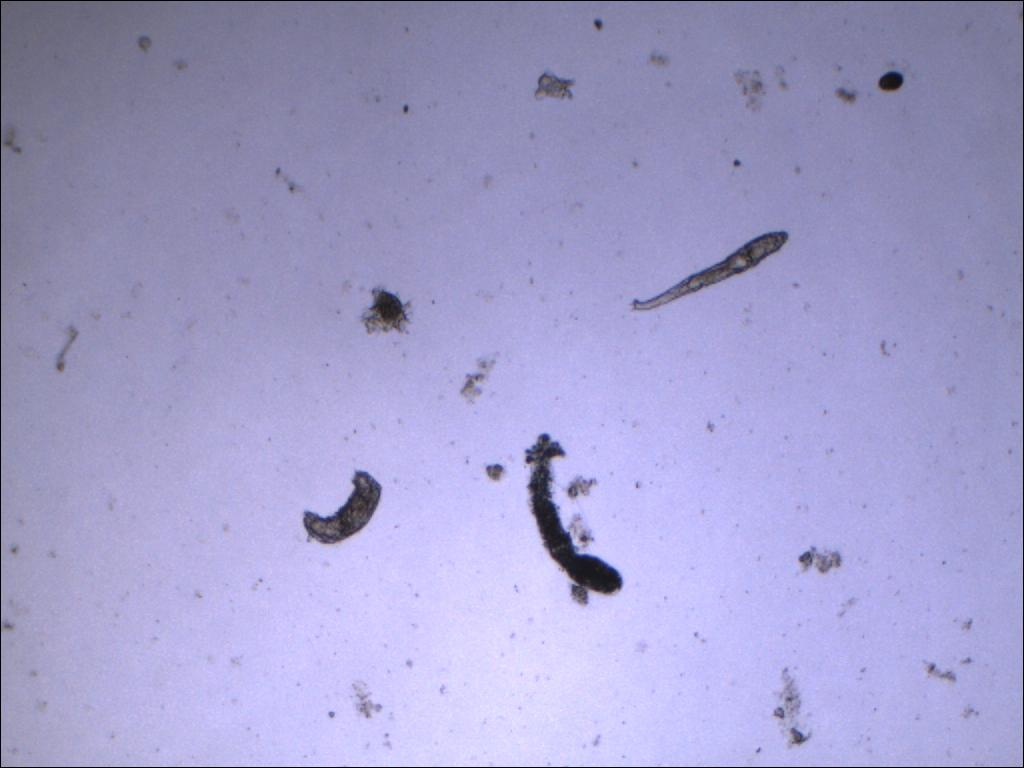amoeba: (522, 427, 626, 597)
